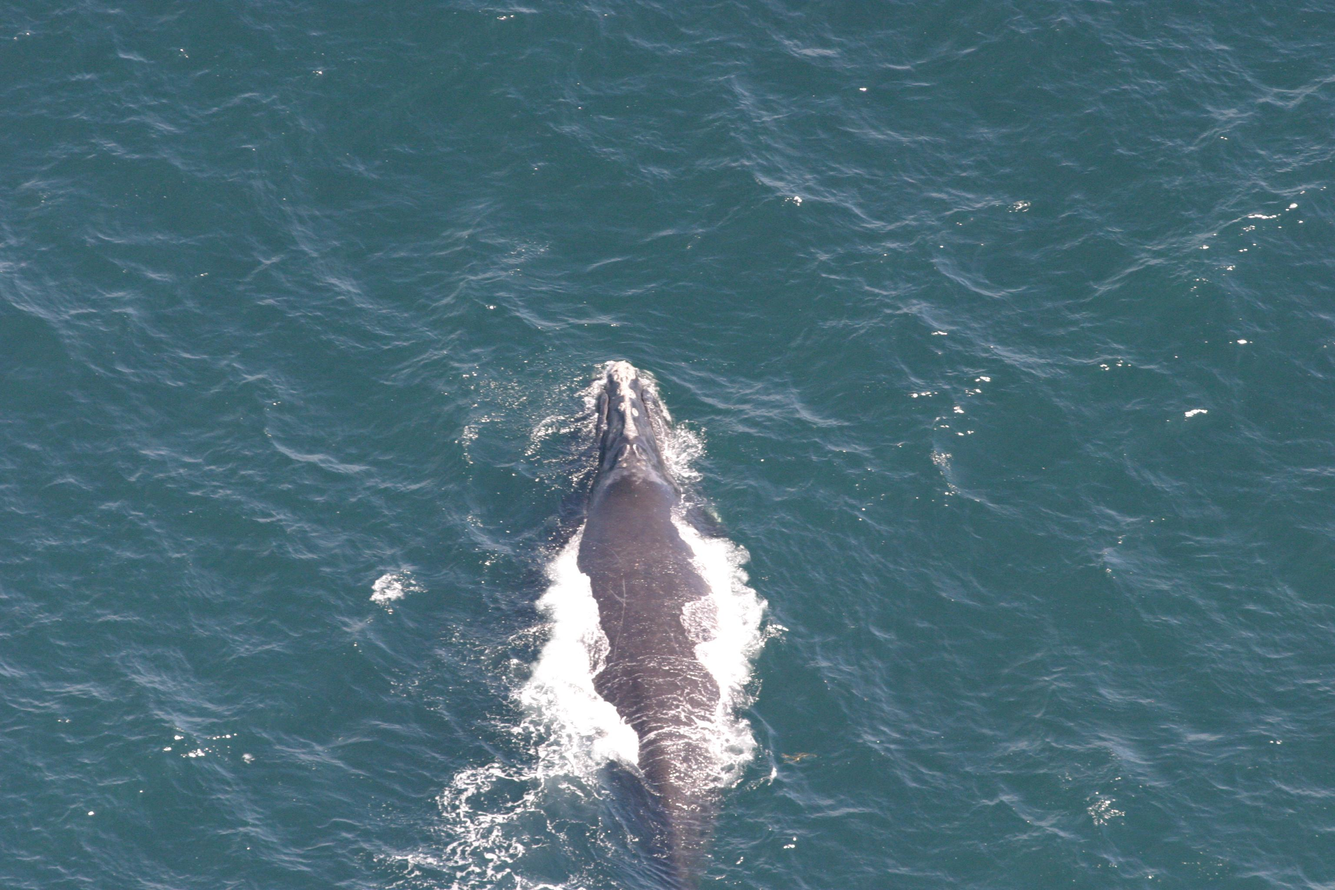whale: (483, 348, 791, 890)
